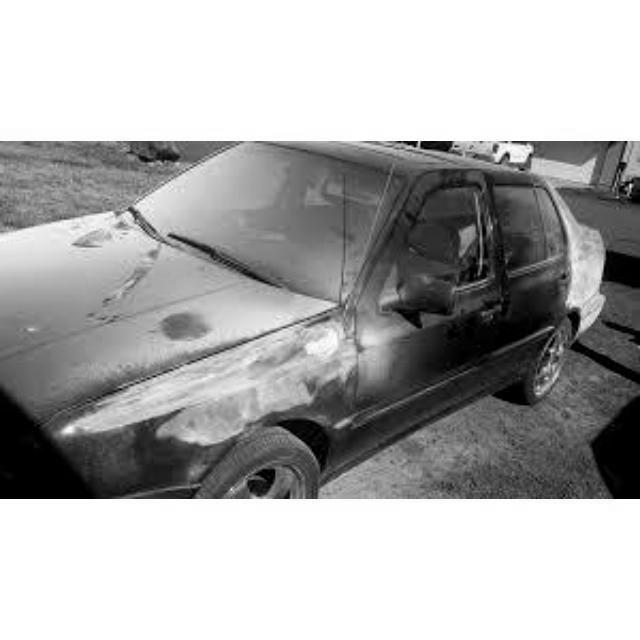fender-dent: (110, 320, 357, 450)
